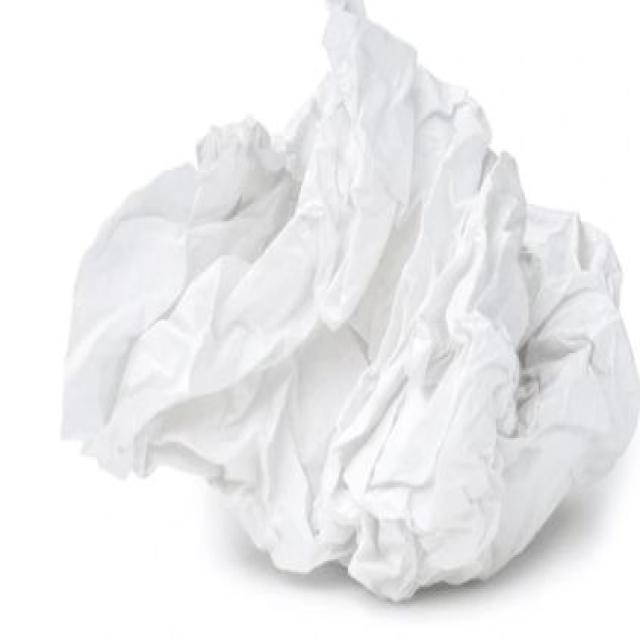electronic: (59, 0, 638, 604)
